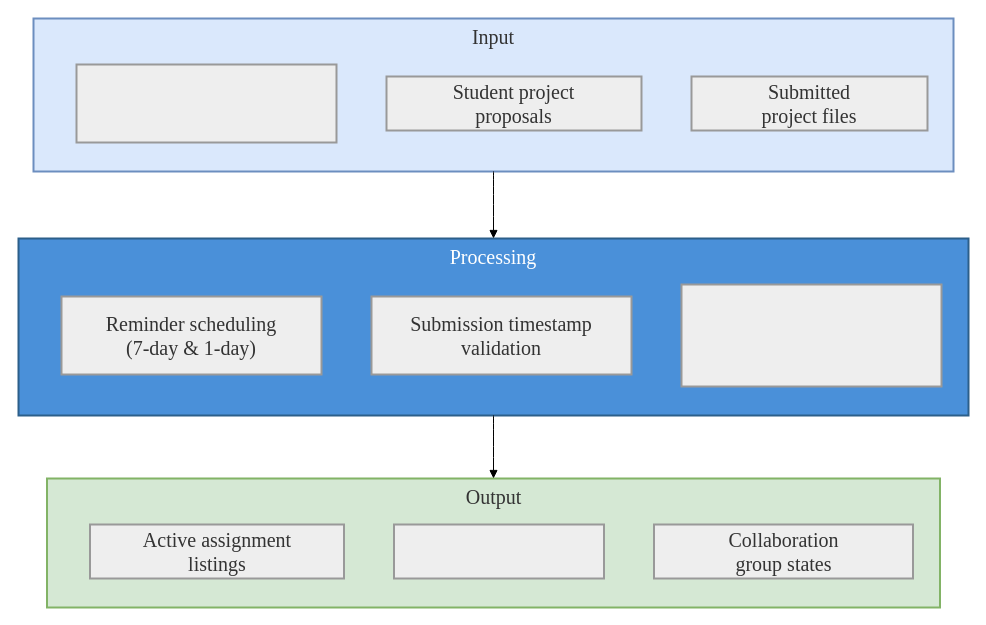
This 986x625 diagram has some shape labels left out. The shapes that lost their labels are listed below. From the top down, each one's centre as x and y in pixels, then its label:
[206,103]: Assignment prompts & due dates
[811,335]: Project group membership management
[498,551]: Submission receipts
